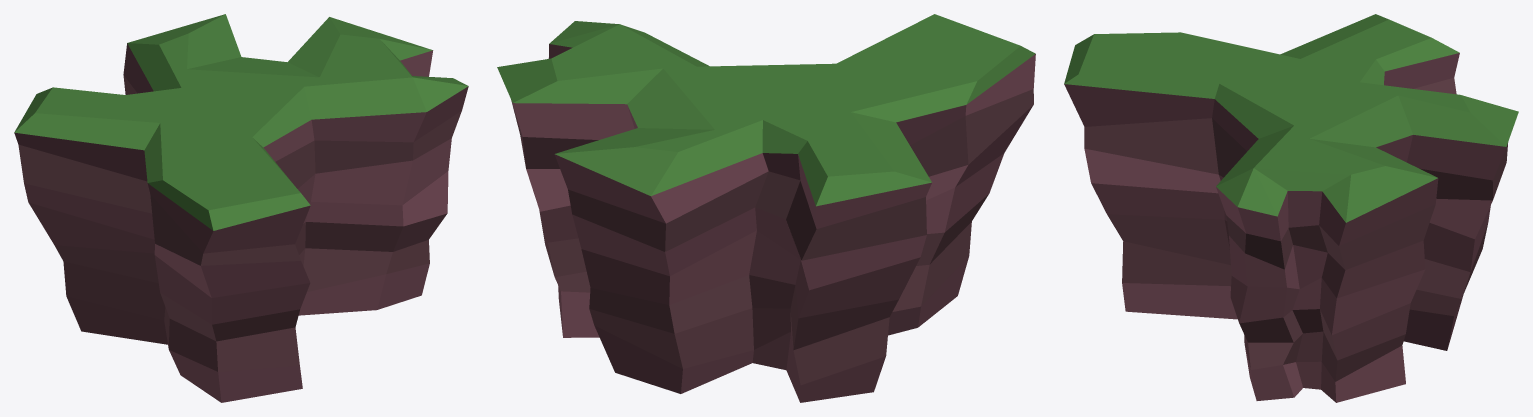
The model's file is woodland_cliff_1.glb.
3 views of the same model, side by side, from view 1: azimuth 30°, elevation 25°; view 2: azimuth 150°, elevation 25°; view 3: azimuth 270°, elevation 25° (orthographic). The views are drawn at different scales.
Visible parts, largest first — view 1: Cliff 1; view 2: Cliff 1; view 3: Cliff 1.
Boxes of the visible parts, box(x1,y1,x2,y2) form: Cliff 1: box(14, 14, 468, 402); Cliff 1: box(497, 14, 1035, 402); Cliff 1: box(1064, 14, 1518, 402).
Bounding box in the file's own units: 12.17 × 6.46 × 11.52.
1 material, 1 textured.
